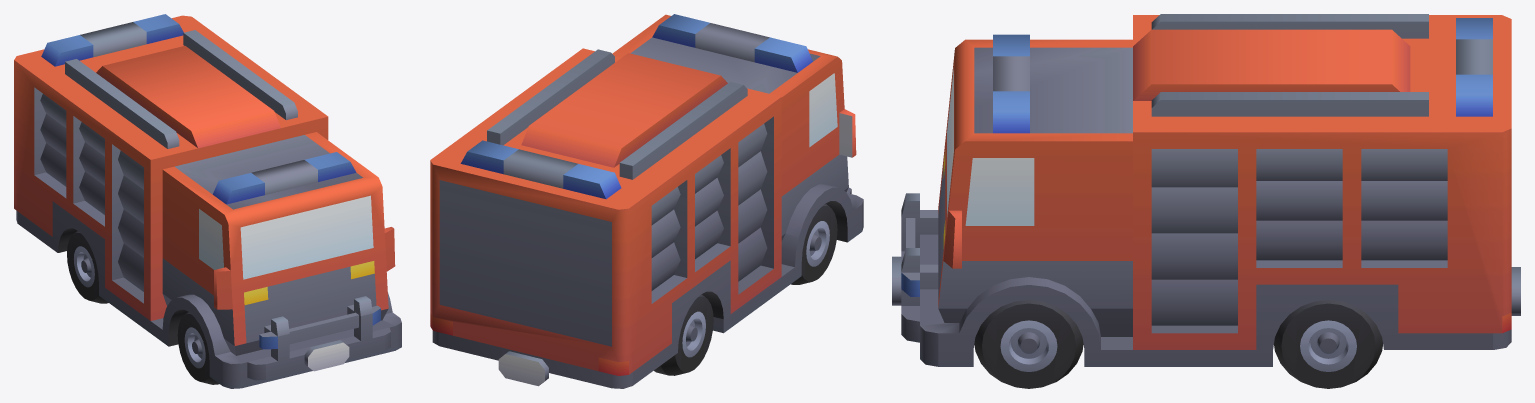
The model's file is k-car-firetruck.glb.
3 renders of one model, left to right at view 1: azimuth 30°, elevation 25°; view 2: azimuth 150°, elevation 25°; view 3: azimuth 270°, elevation 25°, orthographic. The views are drawn at different scales.
Parts seen in each view (by area): view 1: body, grill, wheel-front-right, wheel-back-right; view 2: body, wheel-back-right, wheel-front-right; view 3: body, wheel-front-left, wheel-back-left, grill.
Part boxes in pixels (x1=…): body: x1=14, y1=14, x2=401, y2=388; grill: x1=247, y1=296, x2=390, y2=380; wheel-front-right: x1=177, y1=312, x2=219, y2=384; wheel-back-right: x1=67, y1=230, x2=108, y2=303; body: x1=430, y1=14, x2=863, y2=388; wheel-back-right: x1=654, y1=294, x2=713, y2=375; wheel-front-right: x1=791, y1=203, x2=837, y2=284; body: x1=920, y1=14, x2=1520, y2=366; wheel-front-left: x1=974, y1=300, x2=1083, y2=388; wheel-back-left: x1=1274, y1=300, x2=1382, y2=388; grill: x1=892, y1=193, x2=938, y2=342.
Size of the model in its own units: 1.5 by 1.7 by 3.4.
1 material, 1 textured.
